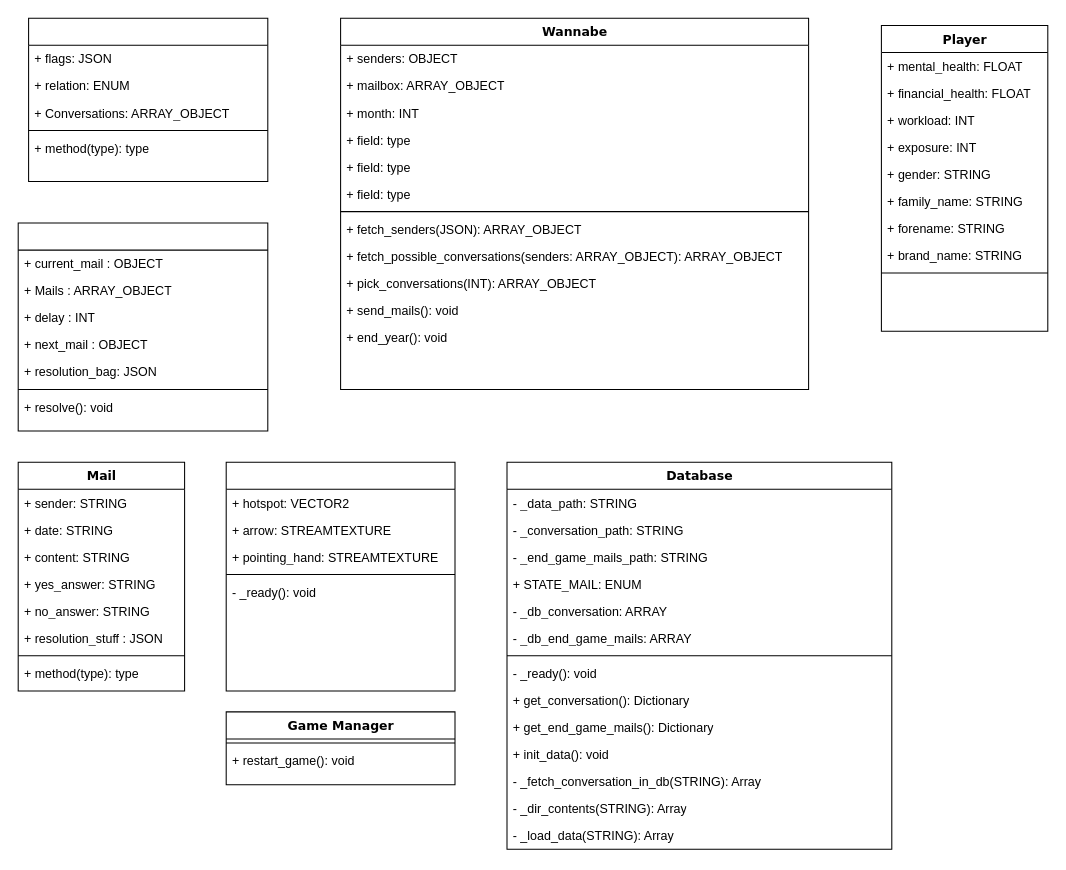
This 1066x870 diagram has some shape labels left out. Each missing label, with the box of its shape:
Conversation: (17, 222, 268, 431)
Cursor Manager: (225, 461, 455, 691)
Sender: (28, 17, 268, 181)
